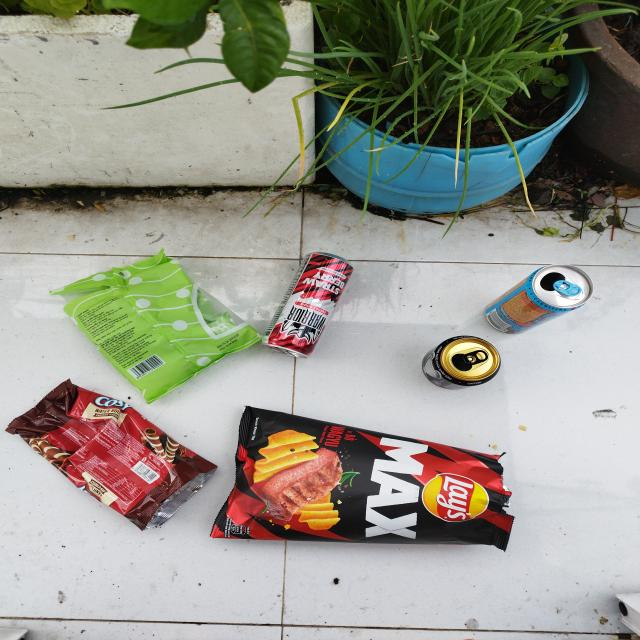can: (260, 252, 356, 358), (485, 264, 594, 335), (421, 334, 504, 391)
snack package: (210, 404, 516, 554), (48, 247, 263, 404), (3, 378, 219, 533)
